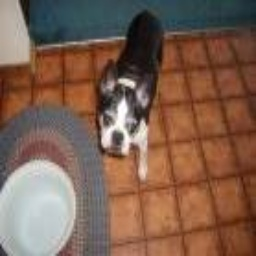dog: (94, 9, 164, 175)
